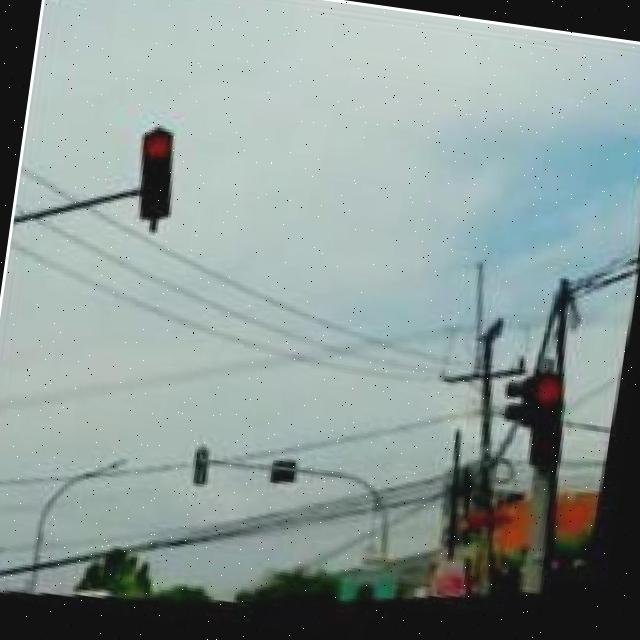red_light: (124, 120, 190, 229)
